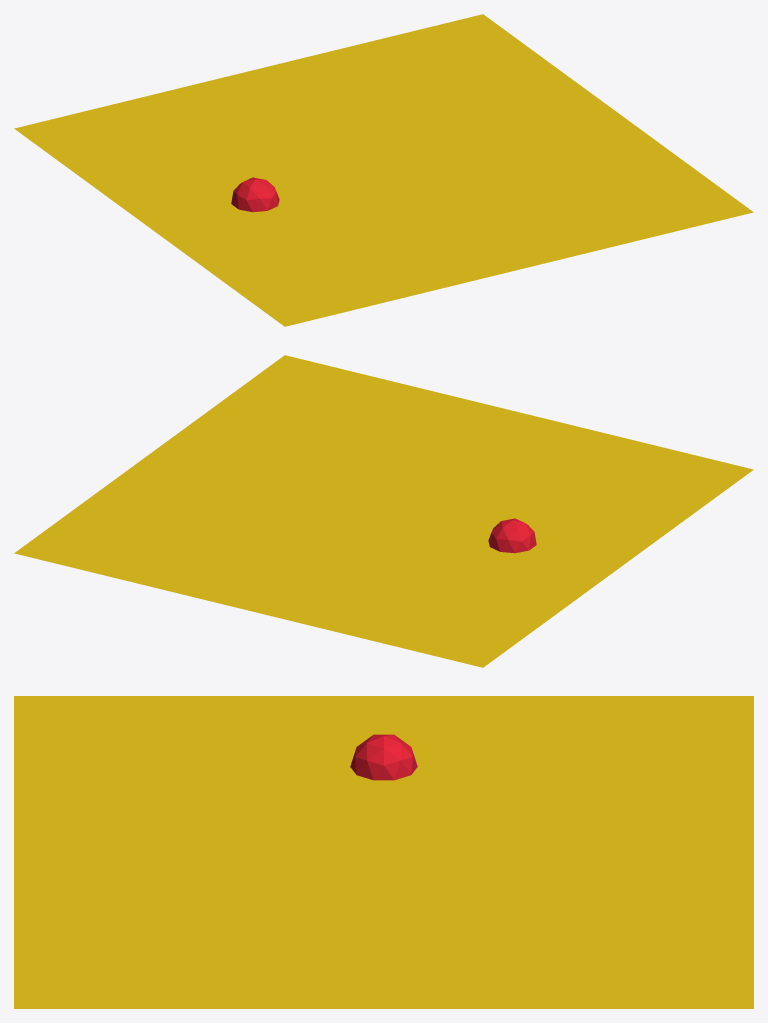
File: red_icosphere_move.glb
3 views of the same model, one above another, from view 1: azimuth 30°, elevation 25°; view 2: azimuth 150°, elevation 25°; view 3: azimuth 270°, elevation 25° (orthographic). The views are drawn at different scales.
Parts seen in each view (by area): view 1: Plane, Icosphere; view 2: Plane, Icosphere; view 3: Plane, Icosphere.
Boxes of the visible parts, x1,y1,x2,y2 form: Plane: (14, 14, 753, 326); Icosphere: (231, 177, 279, 212); Plane: (14, 355, 753, 667); Icosphere: (488, 518, 536, 553); Plane: (14, 696, 753, 1008); Icosphere: (350, 734, 417, 780).
Size of the model in its own units: 21.9 by 2 by 21.9.
